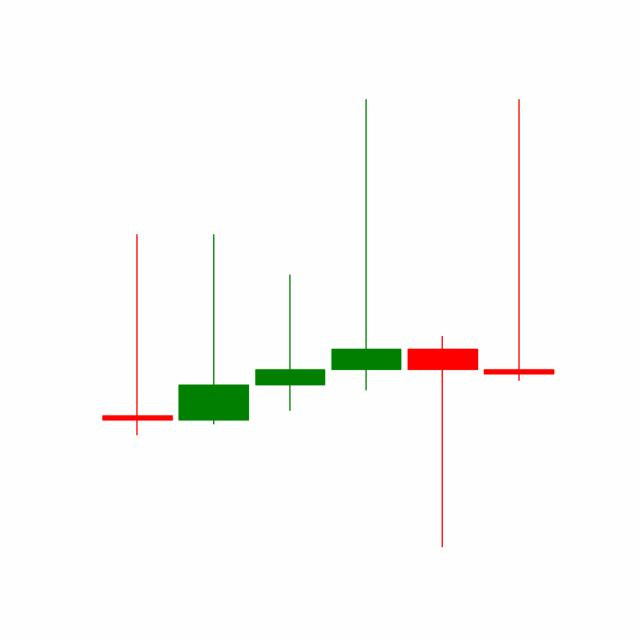Hammer: (403, 333, 481, 550)
